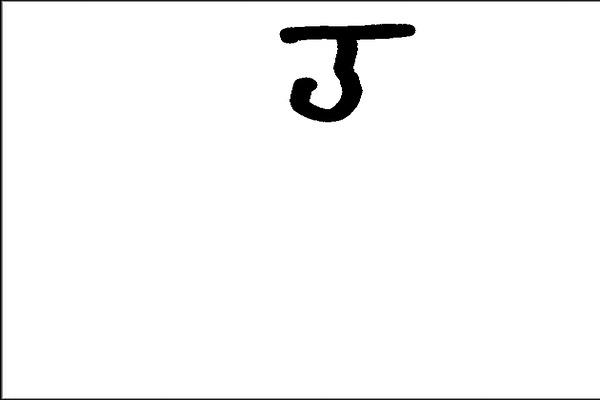J: (274, 18, 421, 128)
